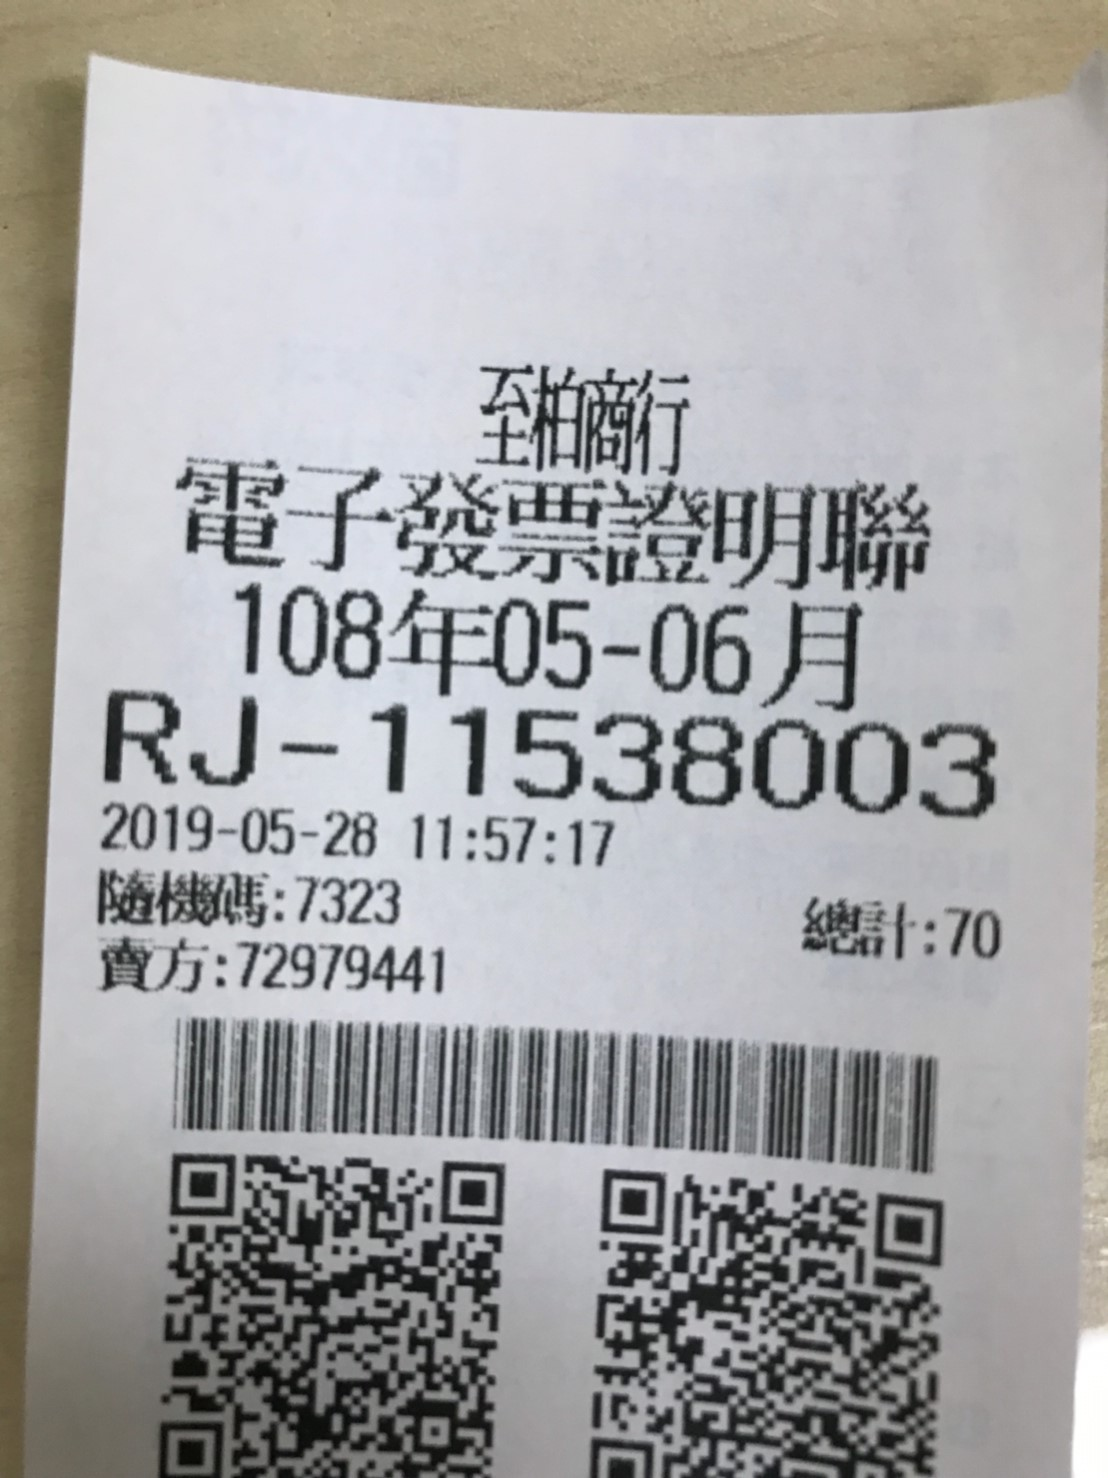Date_New: (230, 574, 871, 718)
Number_New: (370, 695, 997, 823)
